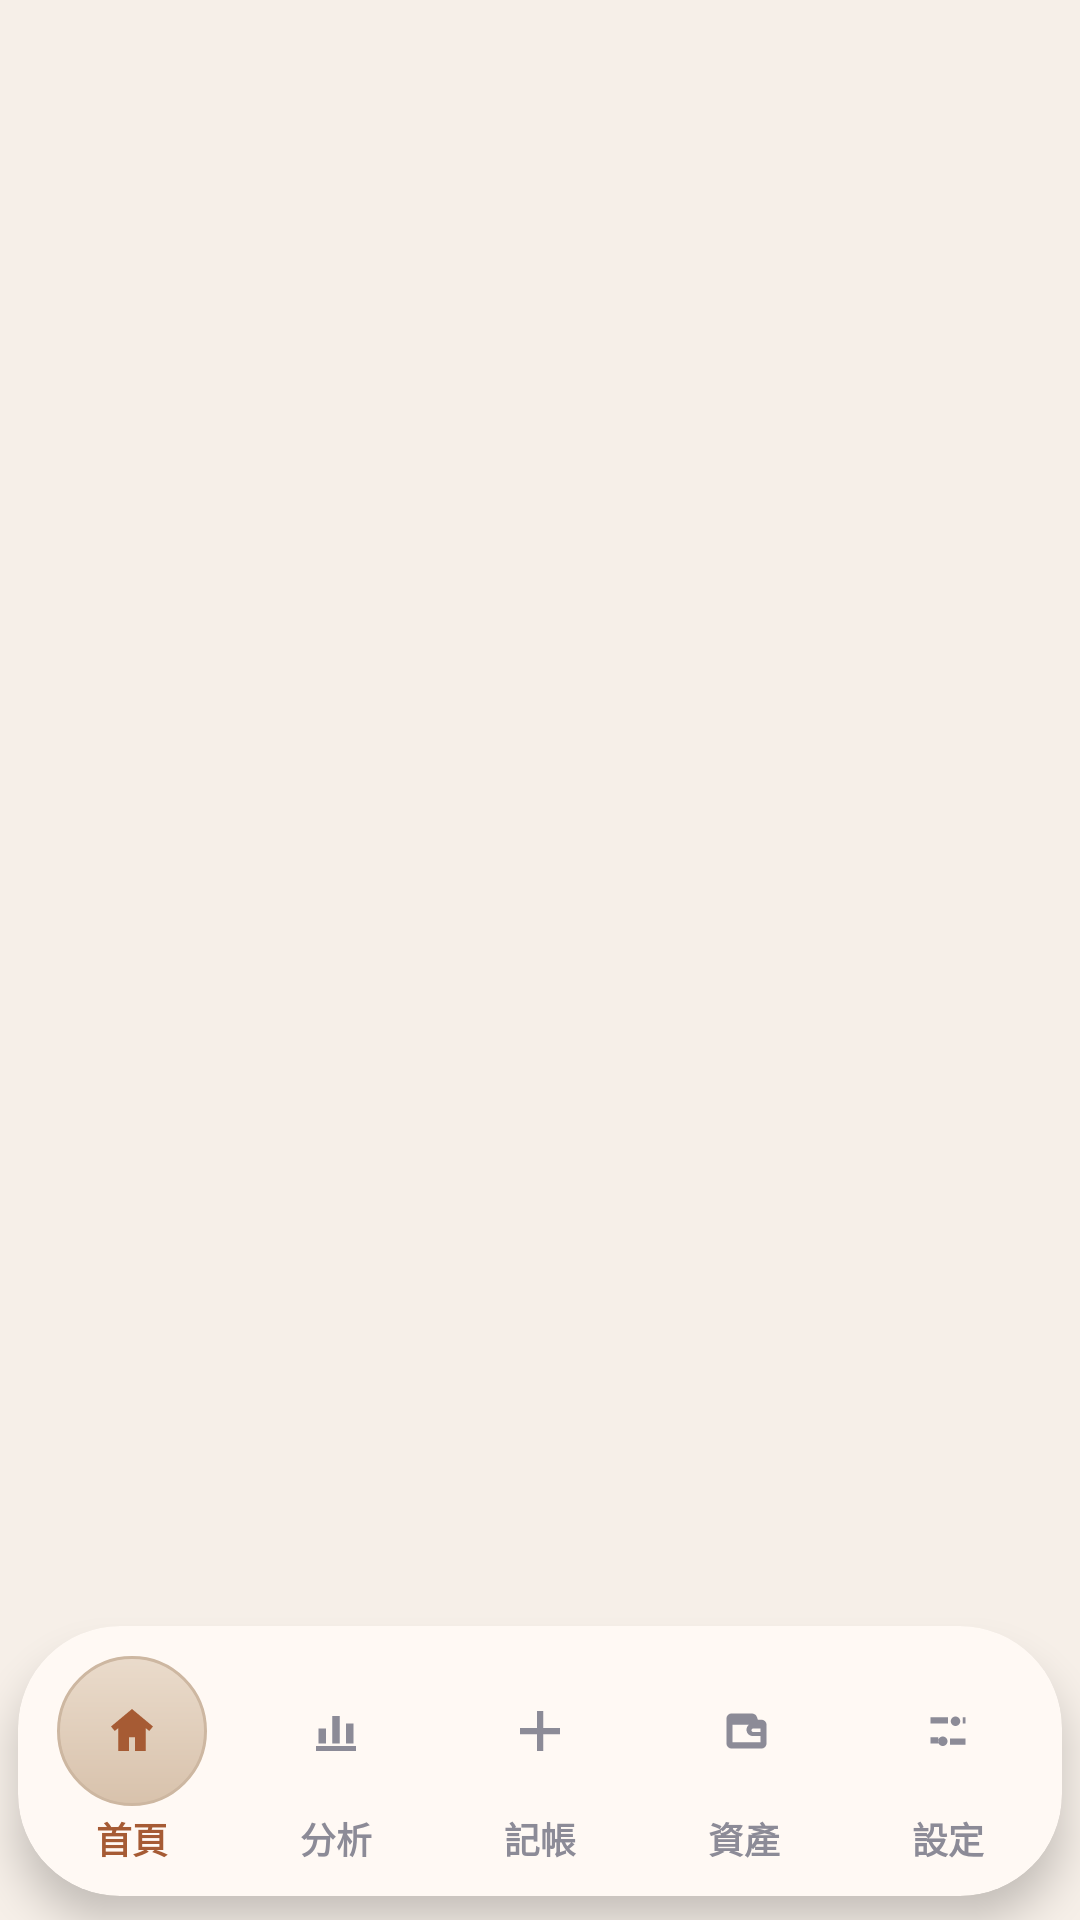

Icons on this 1080x1920 Android screen, each with the point to tap as (x=x, y=y):
add: (x=540, y=1731)
analysis: (x=336, y=1733)
assets: (x=746, y=1731)
home: (x=132, y=1730)
settings: (x=948, y=1731)
